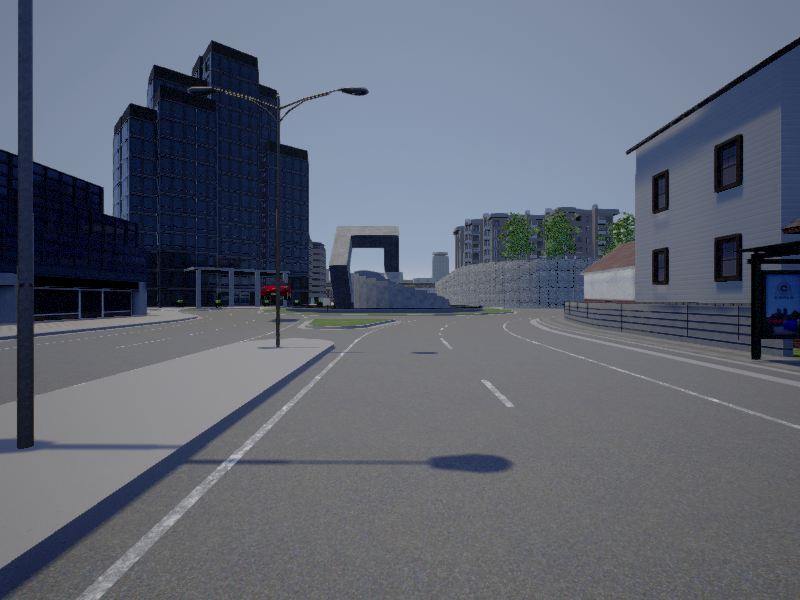Attacker: (260, 279, 291, 297)
